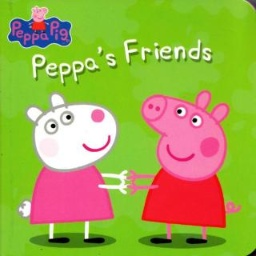Peppa: (128, 89, 243, 249)
